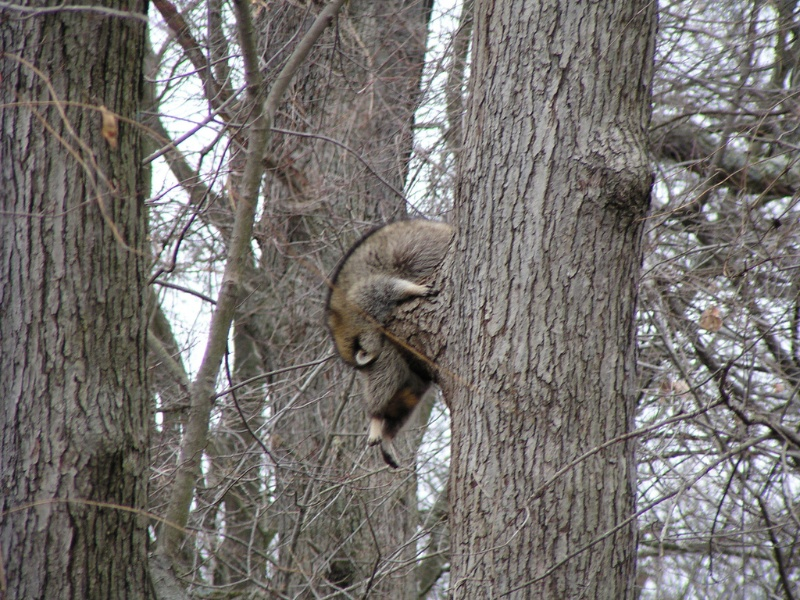raccoon: (324, 211, 453, 469)
